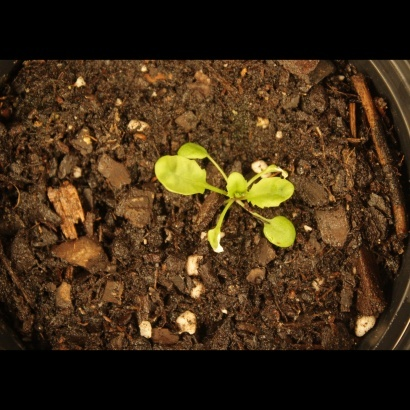leaf: (152, 154, 210, 203), (257, 213, 305, 258), (246, 174, 304, 210), (199, 218, 239, 260), (176, 136, 214, 166), (220, 166, 250, 203)
